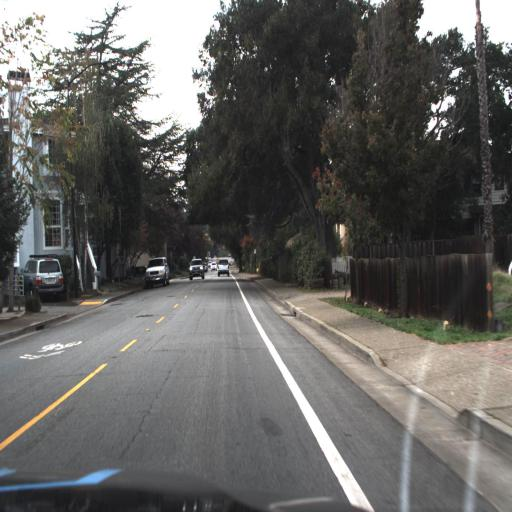car: (18, 252, 65, 302), (142, 254, 171, 291), (145, 253, 169, 283), (186, 253, 206, 283), (214, 254, 231, 282), (215, 258, 231, 279)
